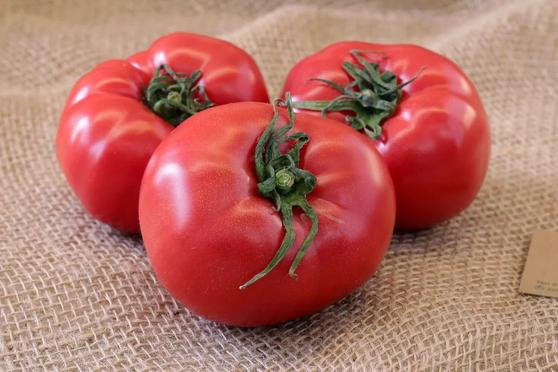tomato: (136, 99, 393, 328)
